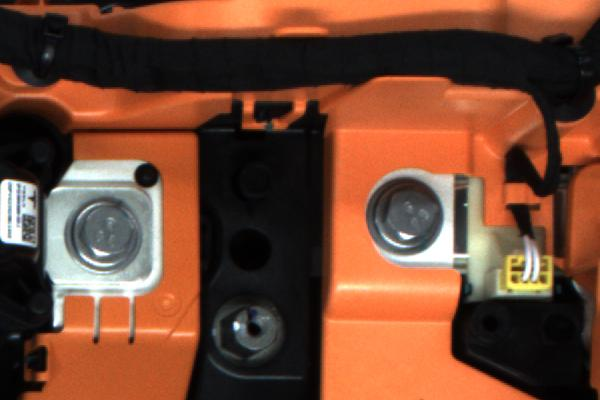nut_b: (358, 171, 449, 262), (58, 195, 150, 279)
